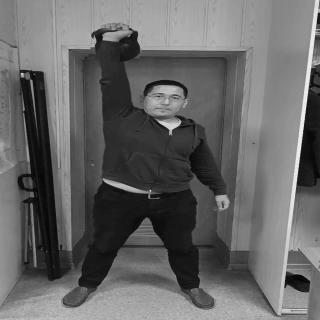kettlebell: (90, 29, 146, 64)
